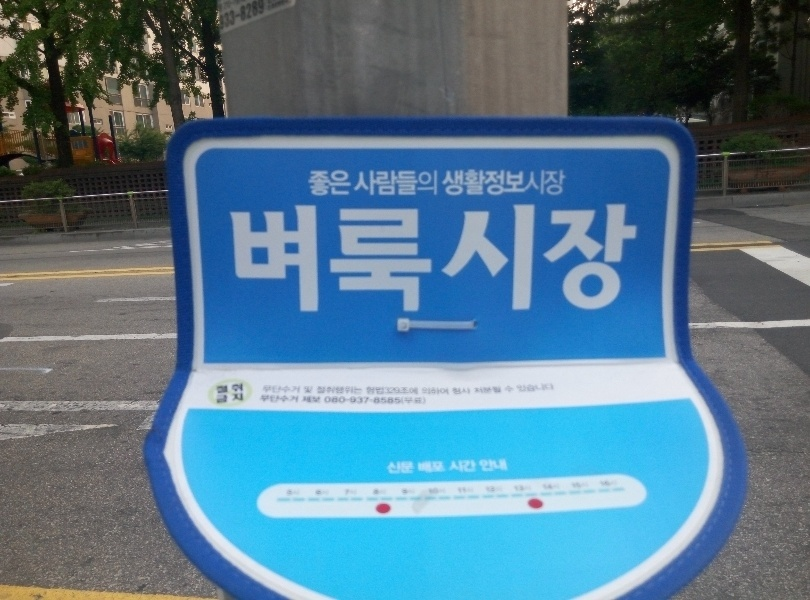text: (625, 201, 641, 318), (241, 201, 256, 318), (257, 201, 272, 318), (273, 201, 288, 318), (289, 201, 304, 318), (305, 201, 320, 318), (321, 201, 336, 318), (337, 201, 352, 318), (353, 201, 368, 318), (369, 201, 384, 318), (385, 201, 400, 318), (401, 201, 416, 318), (417, 201, 432, 318), (433, 201, 448, 318), (449, 201, 464, 318), (465, 201, 480, 318), (481, 201, 496, 318), (497, 201, 512, 318), (513, 201, 528, 318), (529, 201, 544, 318), (545, 201, 560, 318), (561, 201, 576, 318), (577, 201, 592, 318), (593, 201, 608, 318), (609, 201, 624, 318), (230, 201, 240, 318), (273, 2, 289, 32), (449, 168, 464, 199), (465, 168, 480, 199), (481, 168, 496, 199), (497, 168, 512, 199), (513, 168, 528, 199), (529, 168, 544, 199), (545, 168, 560, 199), (321, 169, 336, 199), (337, 169, 352, 199), (353, 169, 368, 199), (369, 169, 384, 199), (385, 169, 400, 199), (401, 169, 416, 199), (417, 169, 432, 199), (225, 2, 240, 32), (241, 2, 256, 32), (257, 2, 272, 32), (308, 169, 320, 199), (225, 383, 240, 405), (481, 459, 496, 475), (216, 2, 224, 32), (449, 460, 464, 474), (386, 461, 400, 475), (418, 461, 432, 475), (273, 382, 288, 395), (289, 382, 304, 395), (305, 382, 320, 395), (321, 382, 336, 395), (337, 382, 352, 395), (353, 382, 368, 395), (369, 382, 384, 395), (385, 382, 400, 395), (401, 382, 416, 395), (417, 382, 432, 395), (433, 382, 448, 395), (449, 382, 464, 395), (465, 382, 480, 395), (481, 382, 496, 395), (497, 382, 512, 395), (513, 382, 528, 395), (529, 382, 544, 395), (497, 459, 509, 475), (442, 168, 448, 199), (561, 168, 567, 199), (401, 461, 414, 475), (433, 461, 446, 475), (465, 460, 478, 474), (273, 394, 288, 406), (289, 394, 304, 406), (305, 394, 320, 406), (321, 394, 336, 406), (337, 394, 352, 406), (353, 394, 368, 406), (369, 394, 384, 406), (385, 394, 400, 406), (401, 394, 416, 406), (216, 383, 224, 405), (433, 169, 438, 199), (545, 382, 556, 395), (513, 483, 528, 492), (261, 394, 272, 406), (417, 394, 427, 406), (263, 382, 272, 395), (545, 482, 558, 490), (402, 488, 416, 495), (289, 489, 300, 496), (433, 488, 444, 495), (485, 485, 496, 492), (577, 481, 585, 490), (374, 489, 384, 496), (241, 383, 244, 405), (599, 480, 608, 487), (345, 488, 352, 496), (465, 487, 473, 494), (321, 489, 330, 495), (457, 487, 464, 494), (571, 481, 576, 490), (609, 480, 614, 487), (497, 485, 502, 492), (353, 488, 357, 496), (316, 489, 320, 495), (429, 488, 432, 495), (479, 459, 480, 475), (542, 482, 544, 490), (287, 489, 288, 496)
